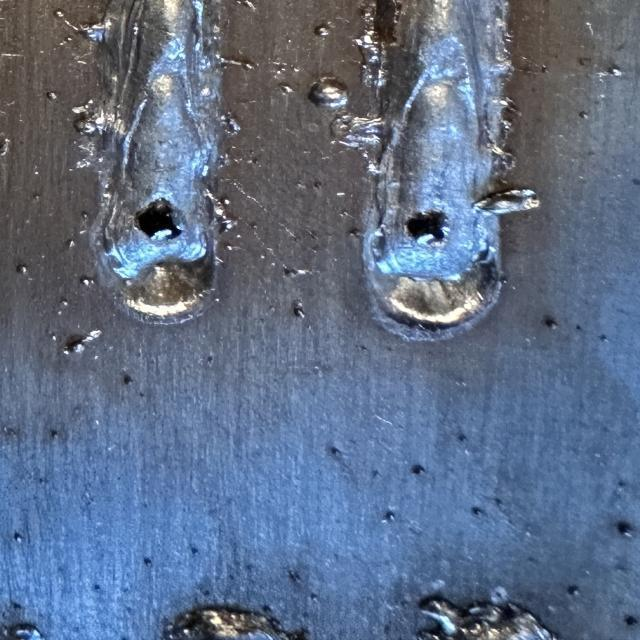Excess Reinforcement: (170, 609, 288, 640), (458, 604, 557, 640), (73, 131, 117, 191), (420, 598, 472, 639), (355, 30, 385, 91), (332, 115, 383, 149), (473, 189, 540, 214), (72, 100, 107, 136), (207, 190, 237, 232), (167, 610, 207, 639), (500, 96, 522, 139), (357, 140, 383, 176), (63, 21, 107, 41), (490, 145, 515, 175), (218, 146, 242, 169), (220, 112, 242, 136), (55, 10, 63, 18)
Spatters: (308, 78, 348, 110), (62, 330, 102, 354), (8, 624, 45, 640), (617, 520, 633, 537), (83, 330, 102, 342), (493, 498, 510, 511), (237, 0, 257, 11), (293, 300, 305, 318), (0, 135, 10, 156), (313, 24, 330, 36), (543, 316, 558, 329), (328, 446, 343, 459), (287, 570, 302, 582), (472, 506, 487, 517), (278, 84, 293, 94), (410, 464, 425, 474), (625, 615, 638, 626), (567, 585, 580, 596), (383, 510, 395, 521), (610, 66, 623, 76), (80, 276, 93, 286), (15, 264, 27, 274), (242, 61, 255, 70), (457, 432, 468, 442), (13, 532, 23, 542), (47, 91, 57, 100), (53, 9, 63, 18), (143, 558, 152, 568), (190, 544, 198, 555), (308, 229, 317, 238), (123, 375, 132, 384), (310, 592, 318, 602), (67, 239, 75, 248), (80, 211, 88, 220), (50, 430, 58, 439), (63, 35, 73, 42), (60, 298, 68, 306), (540, 65, 548, 72), (216, 256, 223, 263), (33, 192, 40, 198), (33, 169, 40, 174), (52, 335, 57, 341), (293, 68, 300, 72), (57, 311, 62, 315)
